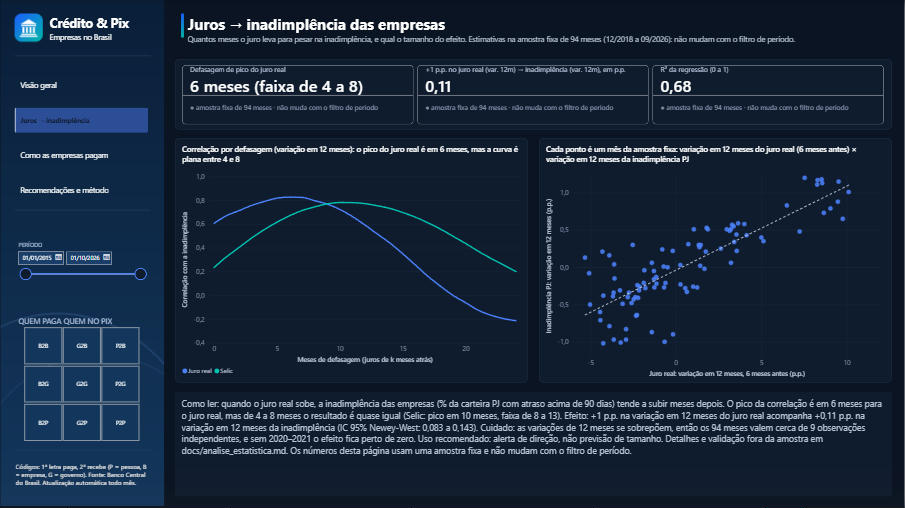

The dashboard page shown, as its layout file describes it:
{"tool":"powerbi","page":{"name":"Juros → inadimplência","canvas":[1920,1080],"ordinal":1},"visuals":[{"type":"lineChart","title":"Quantos meses o juro leva para chegar na inadimplência? Correlação por defasagem (variação em 12 meses)","fields":{"Category":["gold_correlacao_defasagem.defasagem_meses"],"Series":["gold_correlacao_defasagem.Indicador"],"Y":["gold_pix_natureza_mensal._Correlação (variação 12m)"]},"box":[372,294,750,520],"z":0},{"type":"scatterChart","title":"Cada ponto é um mês: quando o juro real sobe, a inadimplência tende a subir 6 meses depois","fields":{"Category":["gold_defasagem_juros_inadimplencia.data"],"Series":["gold_defasagem_juros_inadimplencia.na_amostra_comum"],"X":["Sum(gold_defasagem_juros_inadimplencia.juro_real_var_12m_6m_antes)"],"Y":["Sum(gold_defasagem_juros_inadimplencia.inadimplencia_pj_var_12m)"]},"box":[1146,294,750,520],"z":1000},{"type":"cardVisual","fields":{"Data":["gold_pix_natureza_mensal._Defasagem de pico (meses)","gold_pix_natureza_mensal._Efeito do juro real (p.p.)","gold_pix_natureza_mensal._R² da regressão"]},"box":[372,126,1524,150],"z":2000},{"type":"textbox","box":[372,834,1524,222],"z":2001},{"type":"textbox","box":[92,20,250,92],"z":2002},{"type":"pageNavigator","box":[18,142,312,300],"z":2003},{"type":"slicer","fields":{"Values":["dCalendario.data"]},"box":[18,500,312,130],"z":2004},{"type":"slicer","fields":{"Values":["dNatureza.natureza"]},"box":[18,660,312,290],"z":2005},{"type":"textbox","box":[20,972,310,90],"z":2007},{"type":"textbox","box":[384,18,1500,96],"z":2008}]}

Visuals, with their boxes on the page's 1920x1080 design canvas (x1, y1, x2, y2). These are canvas units, not pixel positions in the 905x508 screenshot, which may show the page scaled, cropped or inside an application window:
"Quantos meses o juro leva para chegar na inadimplência? Correlação por defasagem (variação em 12 meses)" lineChart: left=372, top=294, right=1122, bottom=814
"Cada ponto é um mês: quando o juro real sobe, a inadimplência tende a subir 6 meses depois" scatterChart: left=1146, top=294, right=1896, bottom=814
cardVisual - gold_pix_natureza_mensal._Defasagem de pico (meses) x gold_pix_natureza_mensal._Efeito do juro real (p.p.): left=372, top=126, right=1896, bottom=276
textbox: left=372, top=834, right=1896, bottom=1056
textbox: left=92, top=20, right=342, bottom=112
pageNavigator: left=18, top=142, right=330, bottom=442
slicer - dCalendario.data: left=18, top=500, right=330, bottom=630
slicer - dNatureza.natureza: left=18, top=660, right=330, bottom=950
textbox: left=20, top=972, right=330, bottom=1062
textbox: left=384, top=18, right=1884, bottom=114
